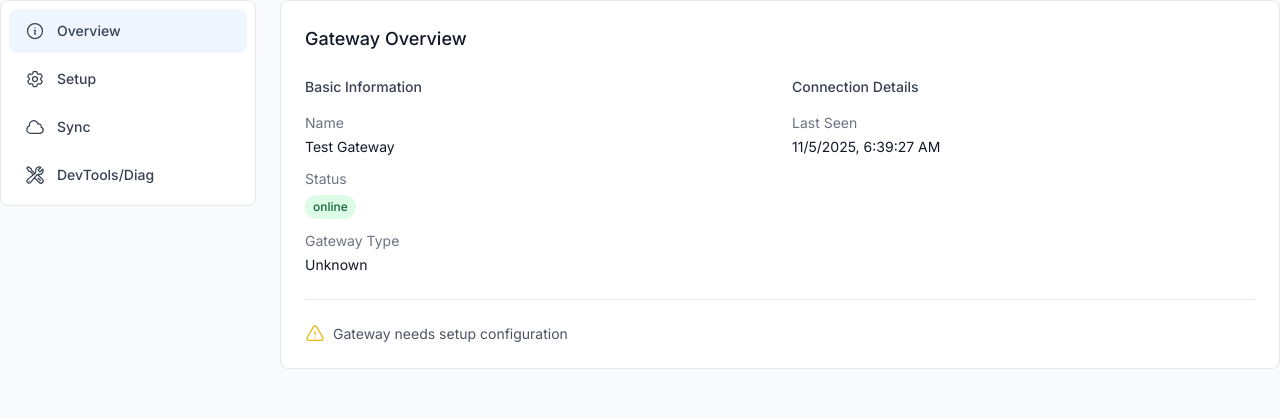
Test: FacilityGatewayTab › Sync Now › should display last sync time after successful sync
Note: Click the Sync tab
Click the button "Sync": (128, 127) [9,105,247,149]
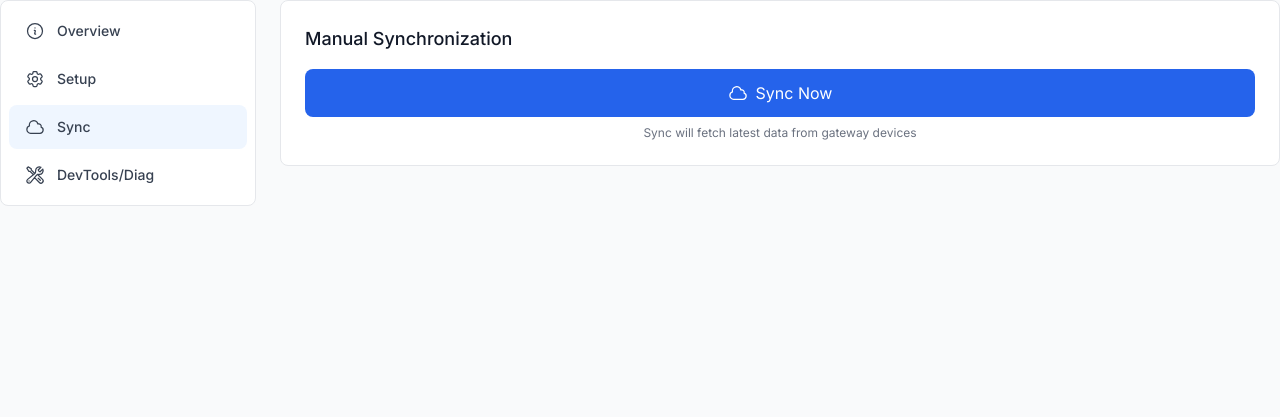
Result: the button "Sync Now" is shown
Click the button "Sync Now": (780, 93) [305,69,1255,117]
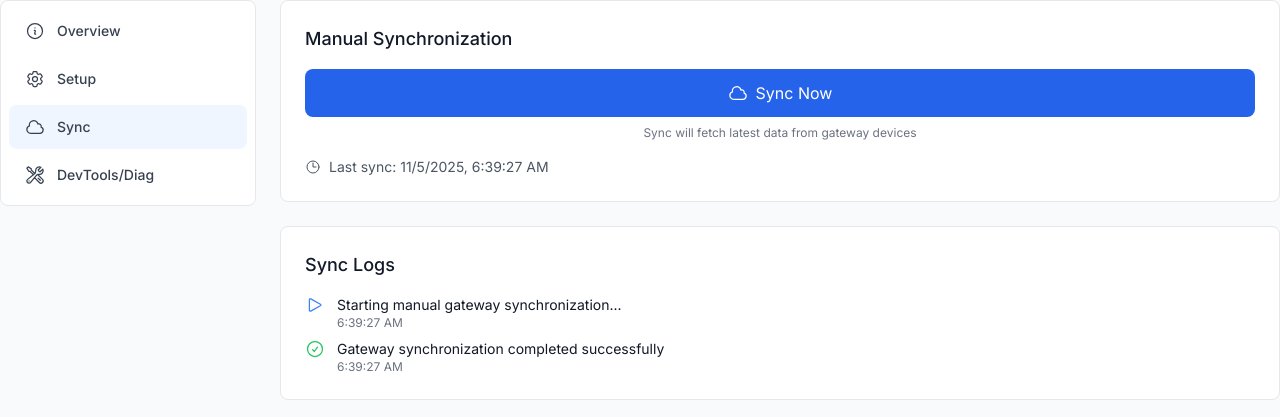
Result: the text "Last sync: 11/5/2025, 6:39:27 AM" is shown at [305,158,549,175]
